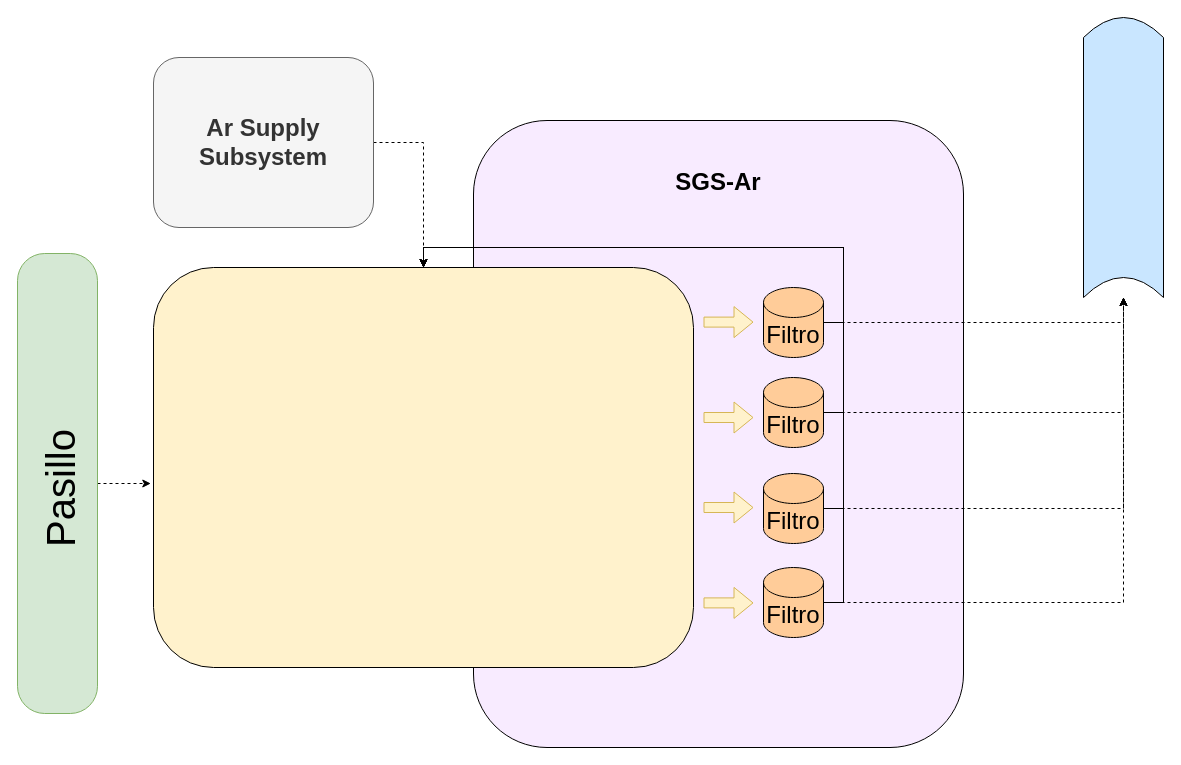
The diagram is 1181 pixels wide and 765 high, and some of its shapes have lost their labels. The box of each missing label's shape, as (x1, y1, x2, y2) in pixels:
Chimenea: (1082, 16, 1164, 298)
LLC: (152, 266, 694, 668)
